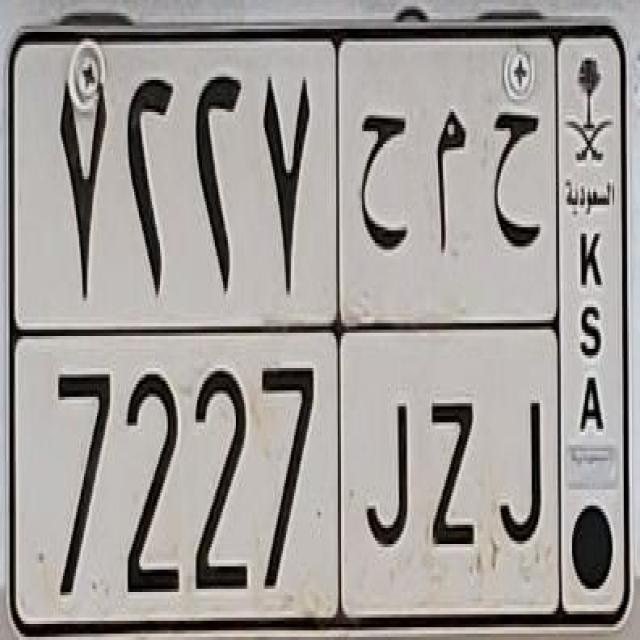license_plate: (7, 21, 631, 630)
